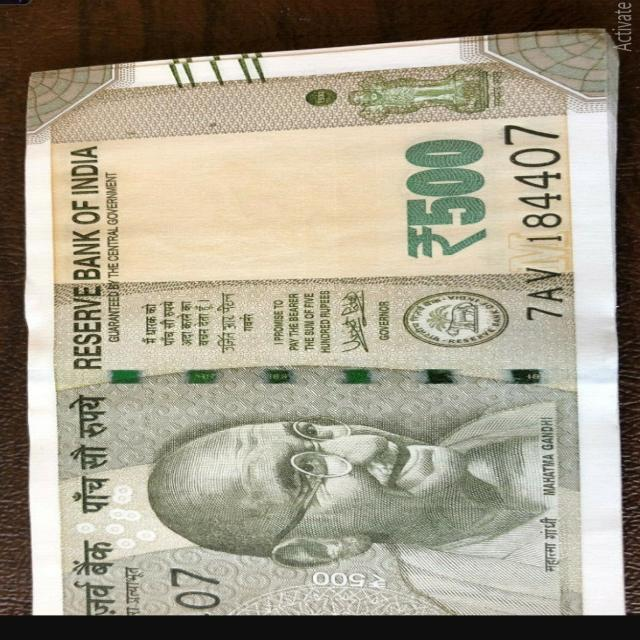500IndianRupees: (35, 60, 622, 616)
